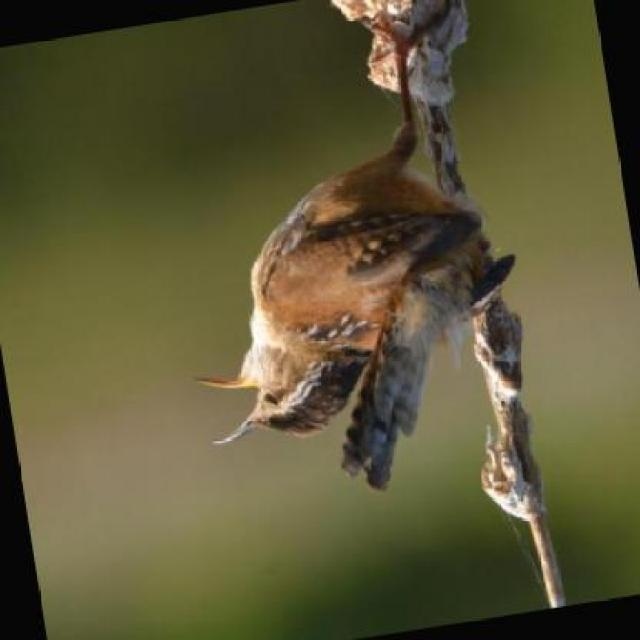Bird: (219, 122, 502, 507)
